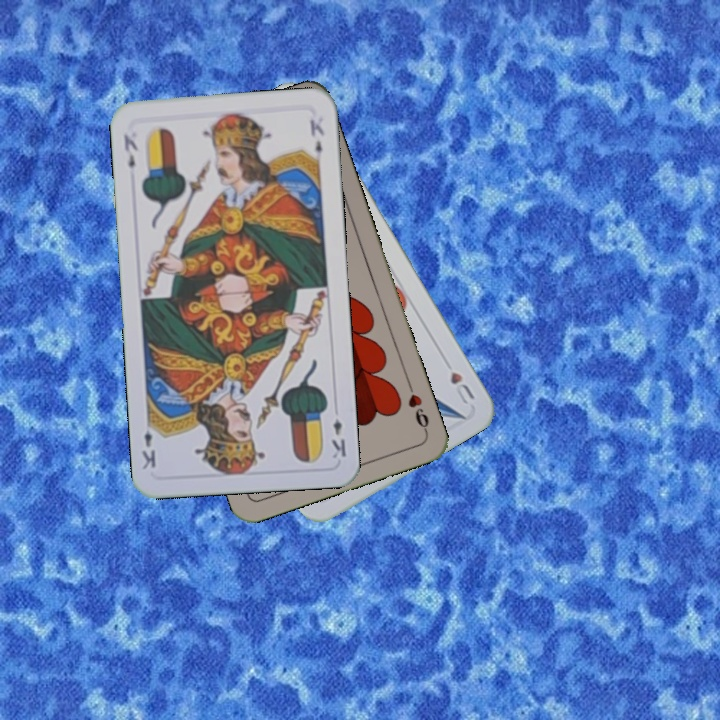EK: (328, 415, 349, 461), (119, 130, 140, 171)
H9: (404, 378, 432, 436)
HU: (446, 367, 477, 407)
